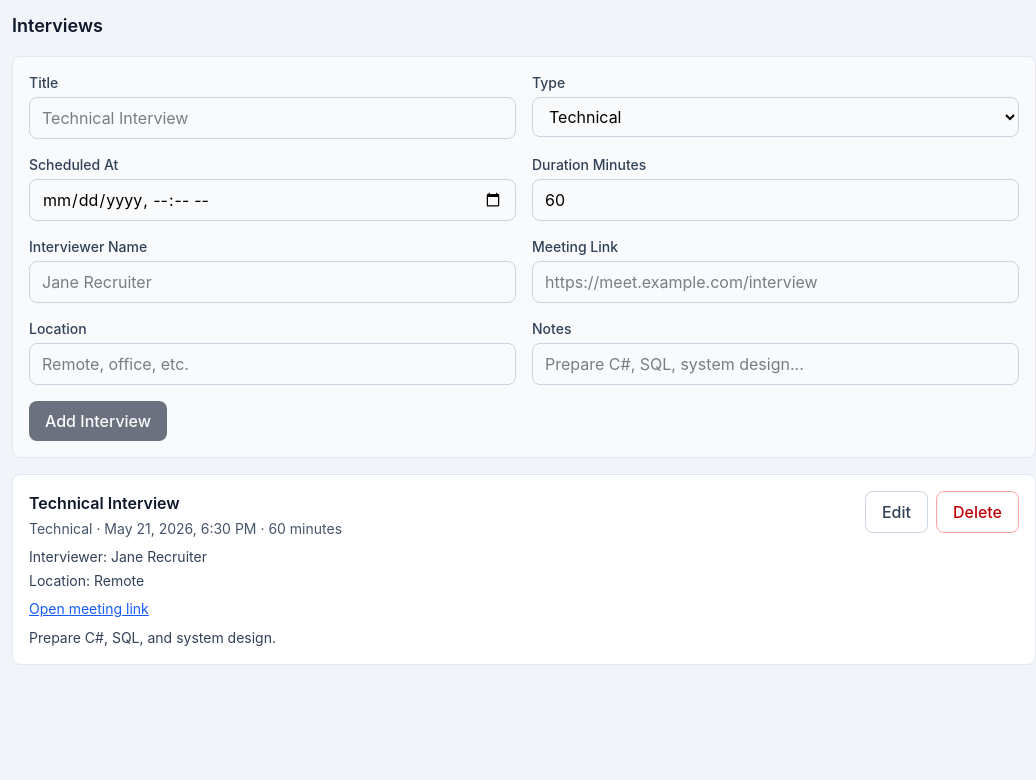
Scenario: InterviewsSection › cancel edit clears edit mode
Check: the heading "Technical Interview" is shown, box [29, 493, 180, 513]
Click the button "Edit": (896, 512) [865, 491, 928, 533]
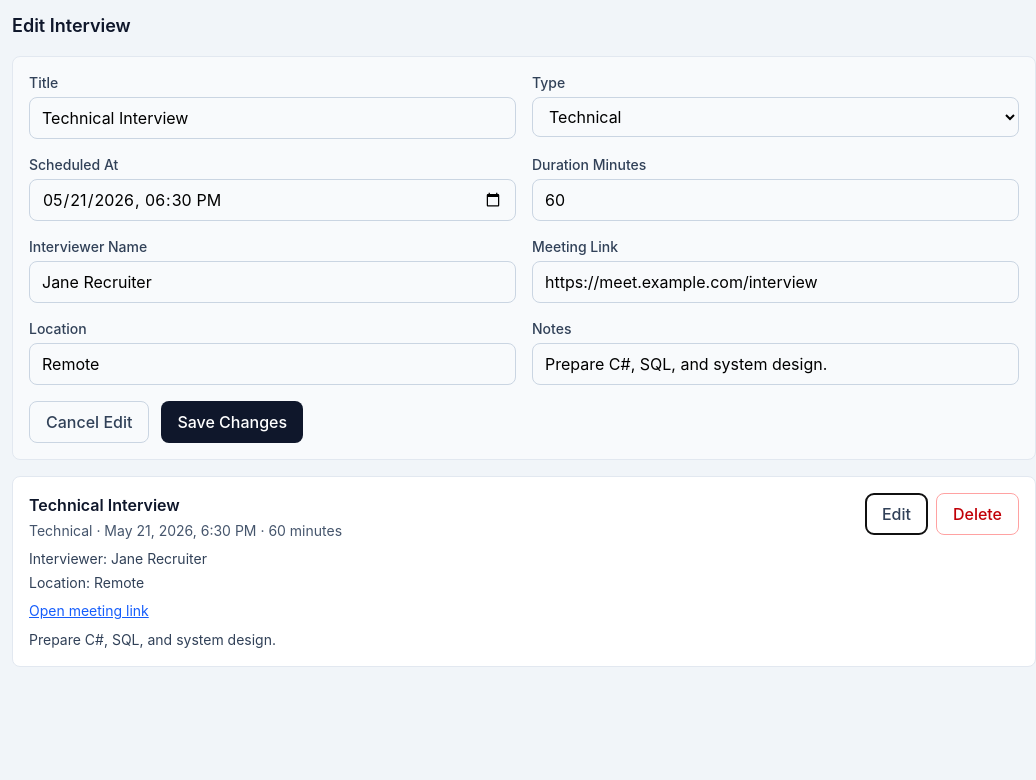
Check: the field labelled "Title" holds "Technical Interview", box [29, 97, 516, 139]
Click the button "Cancel Edit": (89, 422) [29, 401, 149, 443]
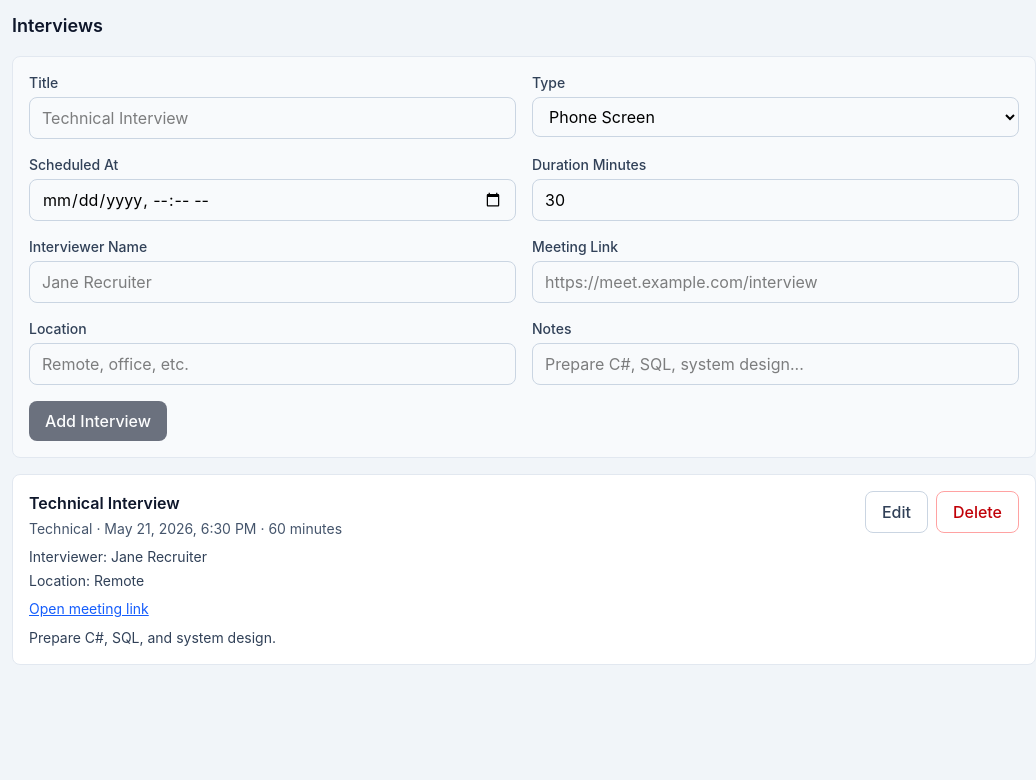
Check: the field labelled "Title" is empty, box [29, 97, 516, 139]
Check: the button "Add Interview" is shown, box [29, 401, 167, 441]
